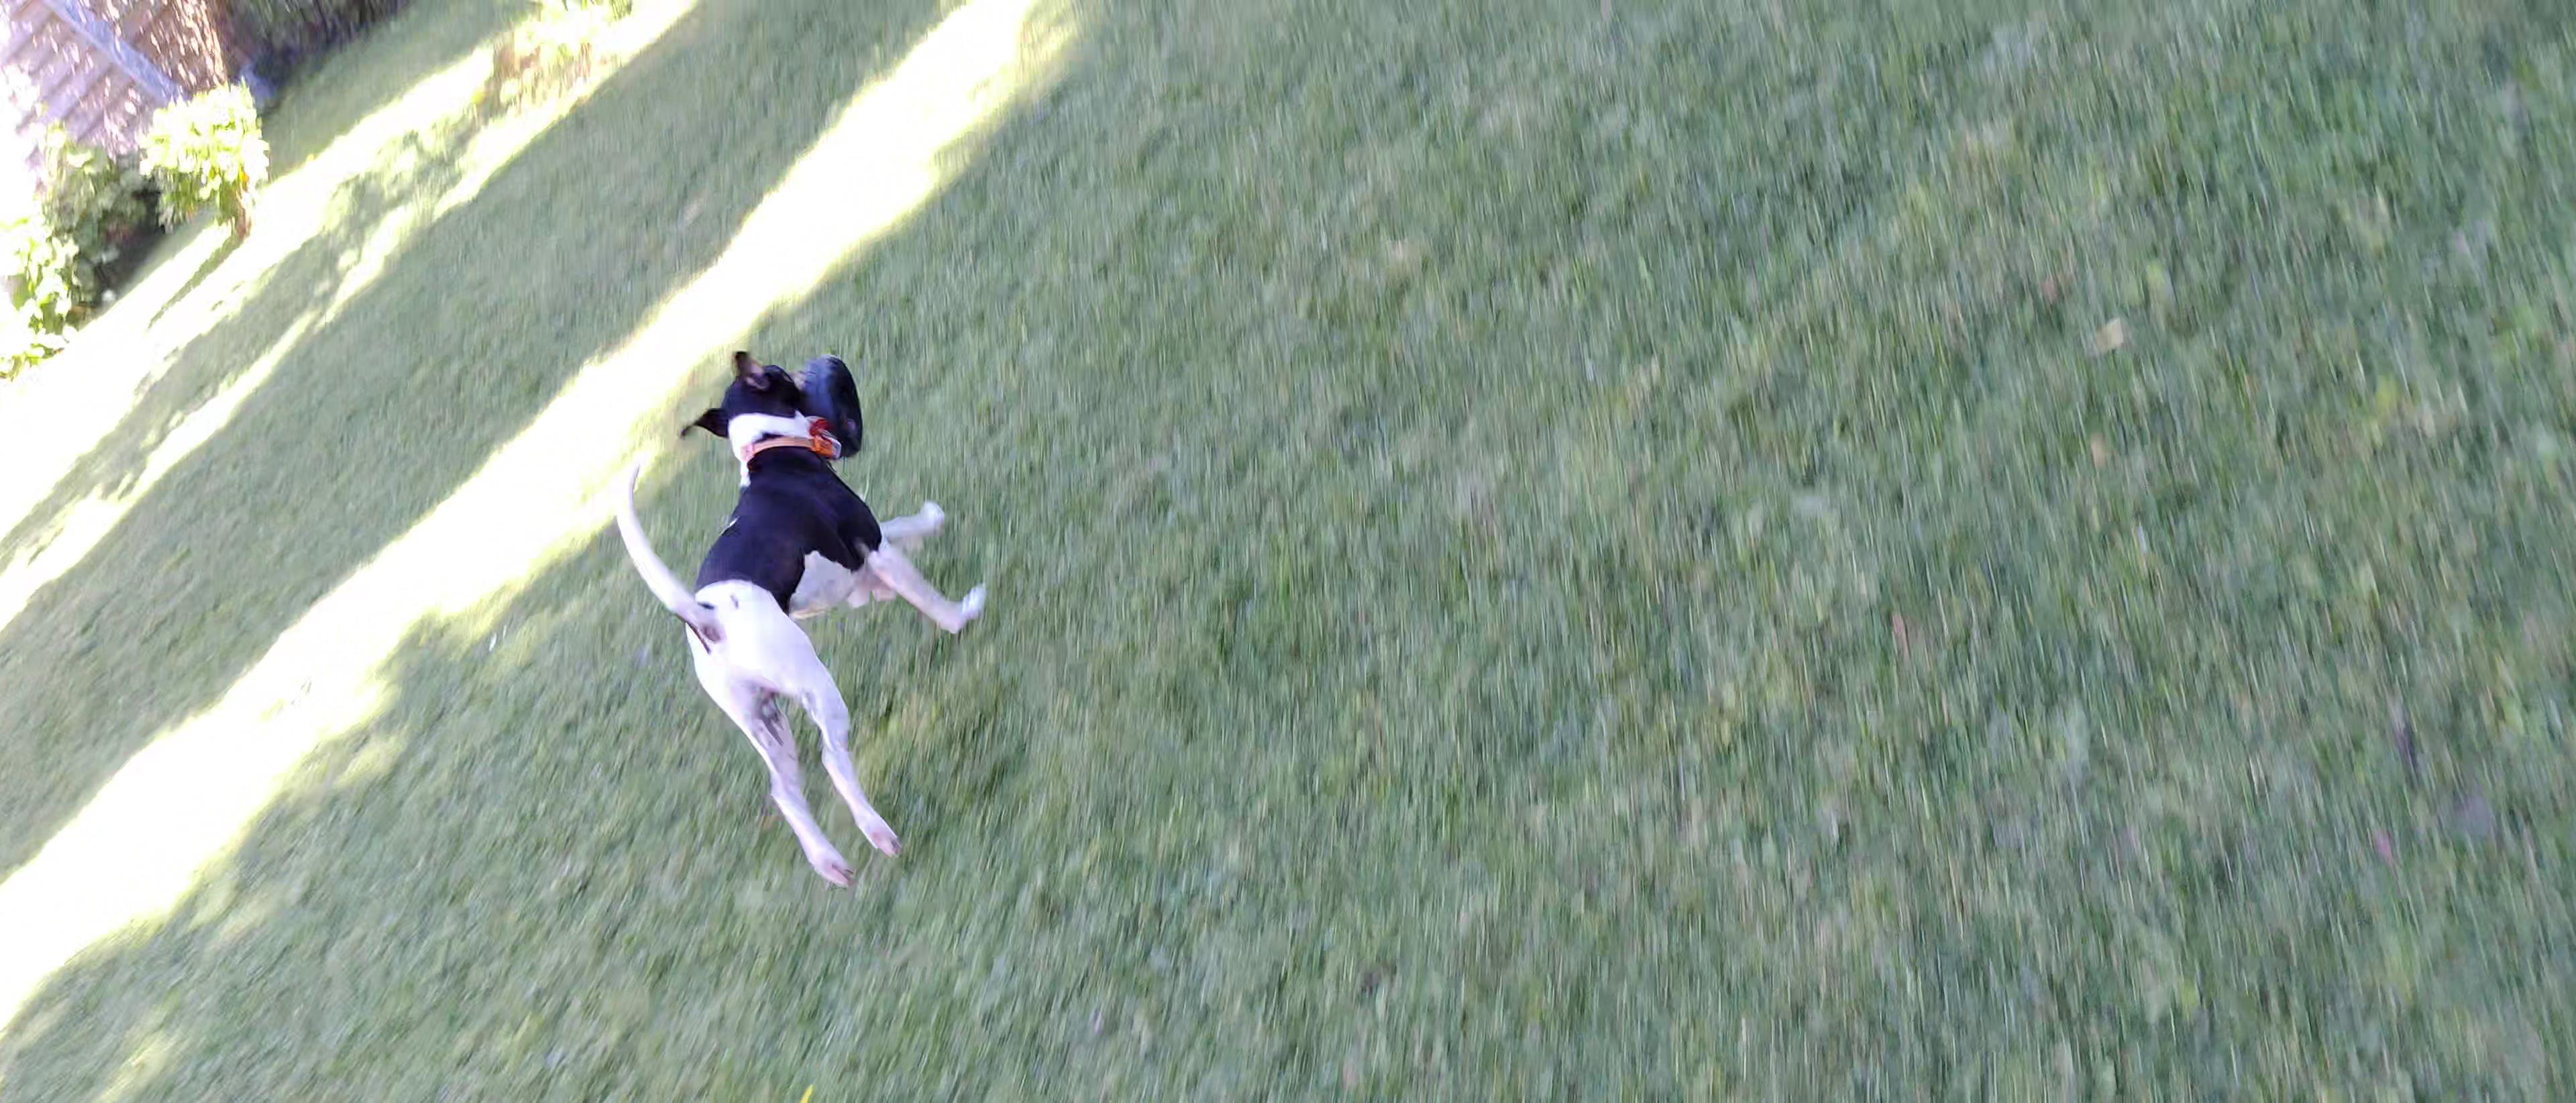Dog: (608, 344, 1000, 898)
